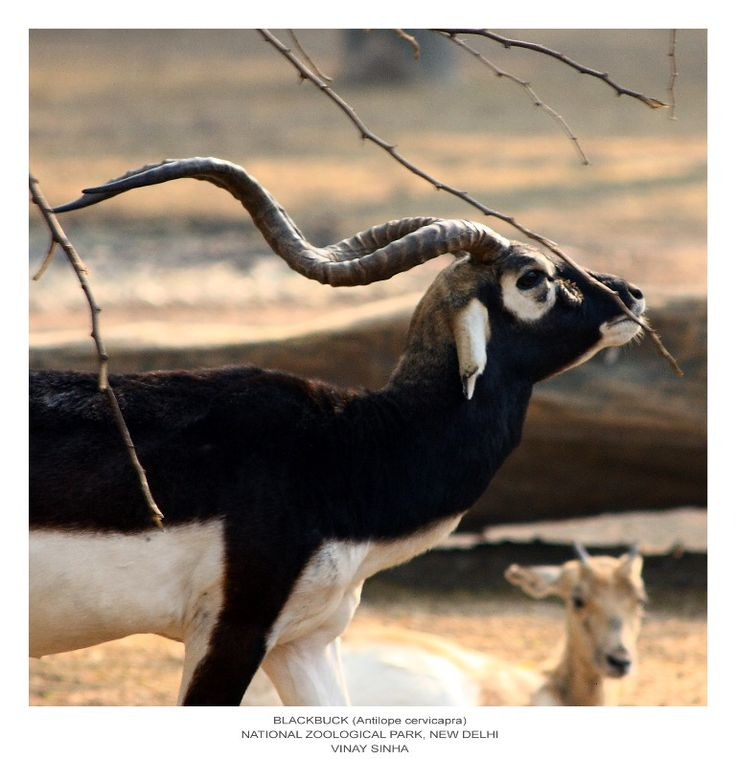Blackbuck: (28, 156, 653, 707)
Deer: (262, 551, 671, 706)
